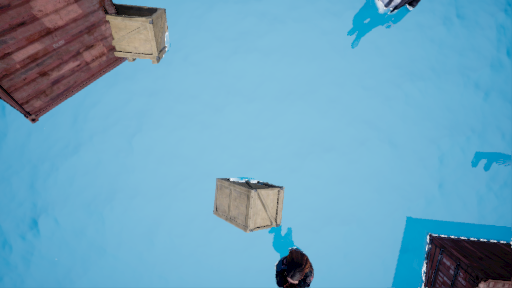person: (267, 228, 320, 288)
